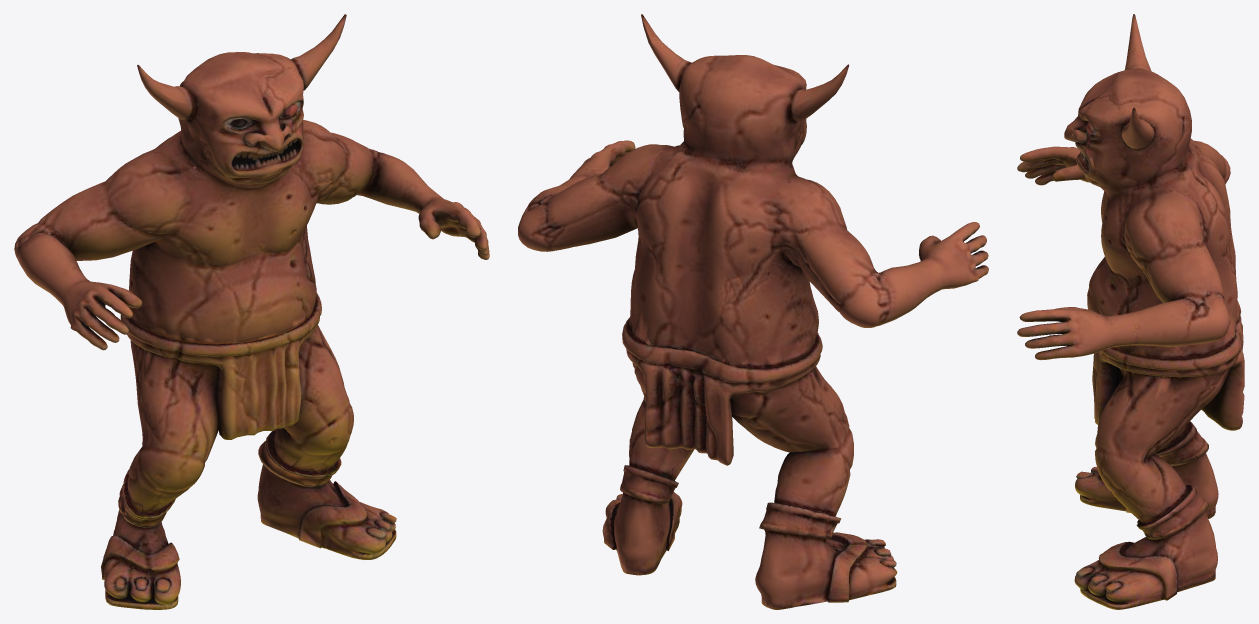
Rendered from MZ4250 - Sacred Statue.glb.
3 views of the same model, side by side, from view 1: azimuth 30°, elevation 25°; view 2: azimuth 150°, elevation 25°; view 3: azimuth 270°, elevation 25° (orthographic). The views are drawn at different scales.
Parts seen in each view (by area): view 1: Body.001; view 2: Body.001; view 3: Body.001.
Part boxes in pixels (x1,y1,x2,y2): Body.001: [14, 14, 489, 609]; Body.001: [518, 14, 988, 609]; Body.001: [1017, 14, 1244, 609].
Size of the model in its own units: 1.31 by 1.62 by 0.6884.
Materials: 1 (1 with a texture image).
